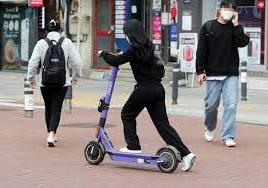nonhelmet: (83, 19, 197, 174)
